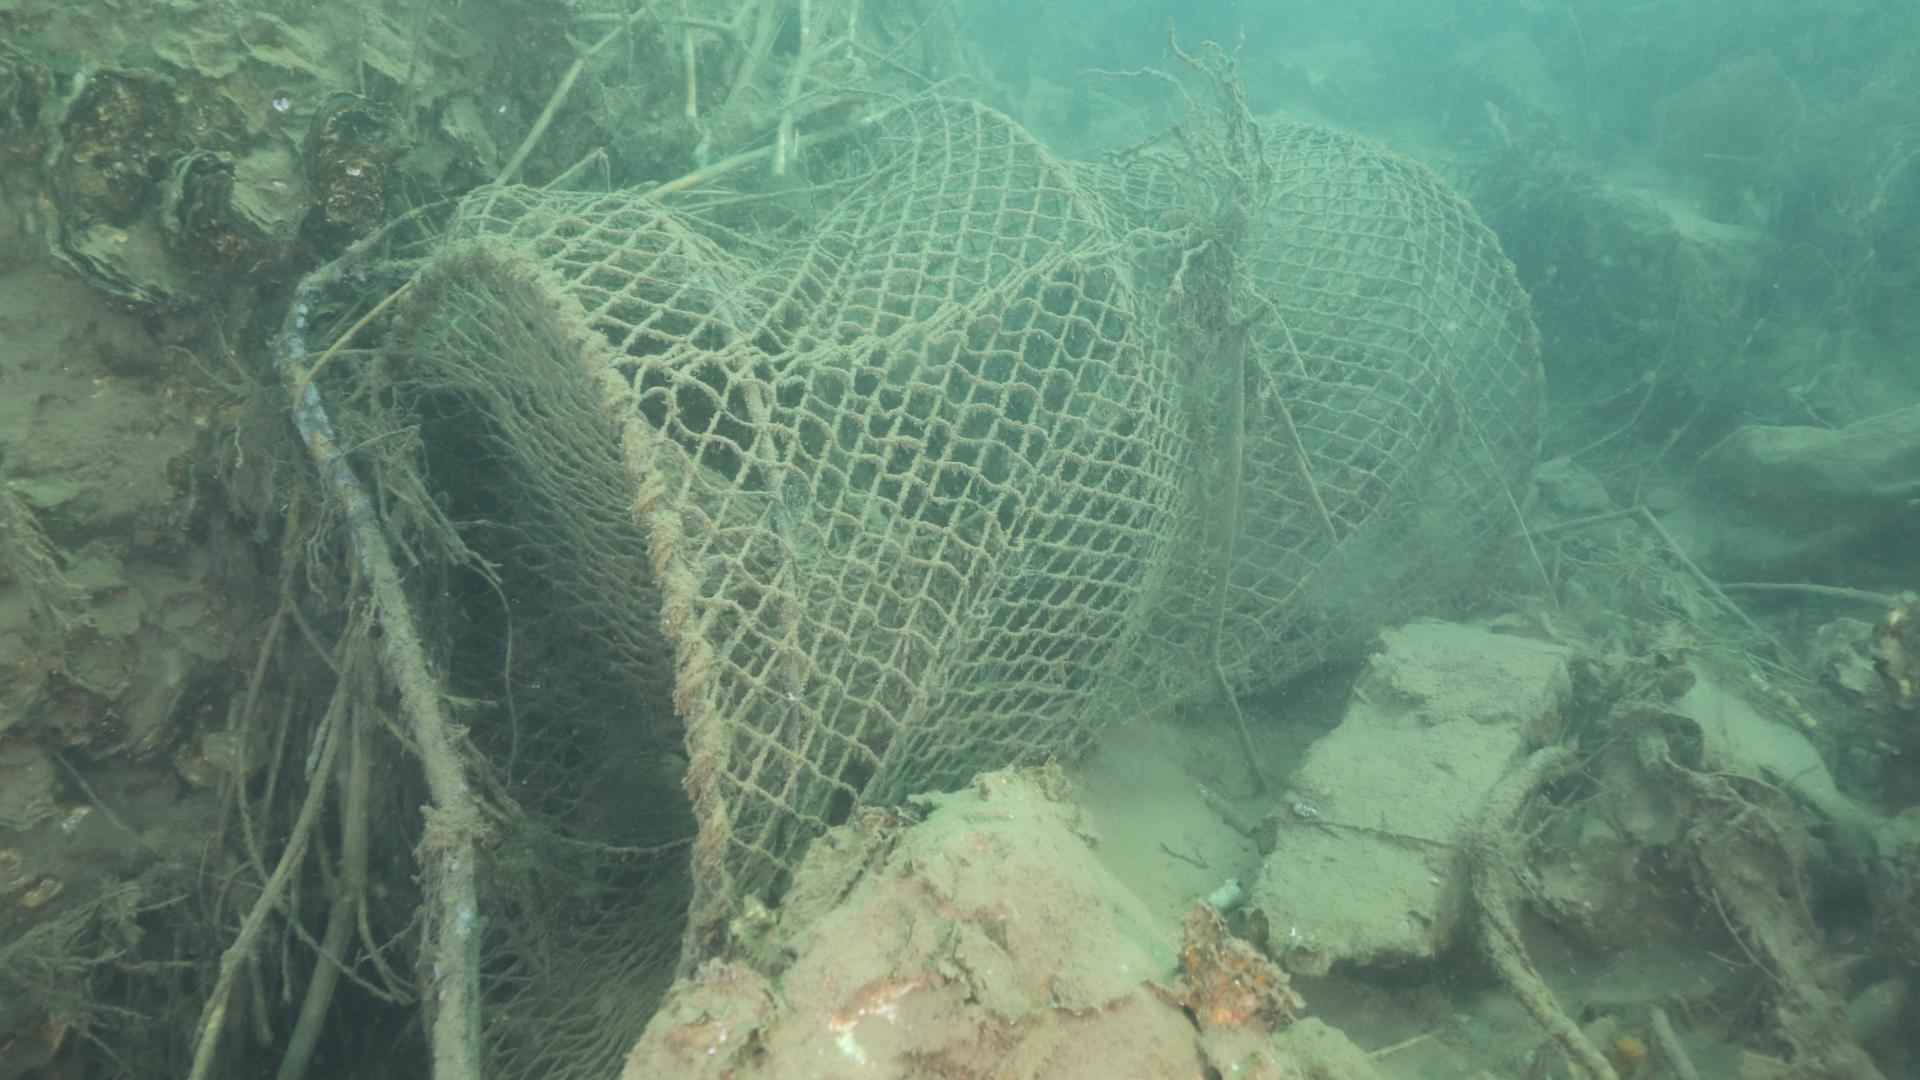spring fish trap: (361, 88, 1545, 1080)
